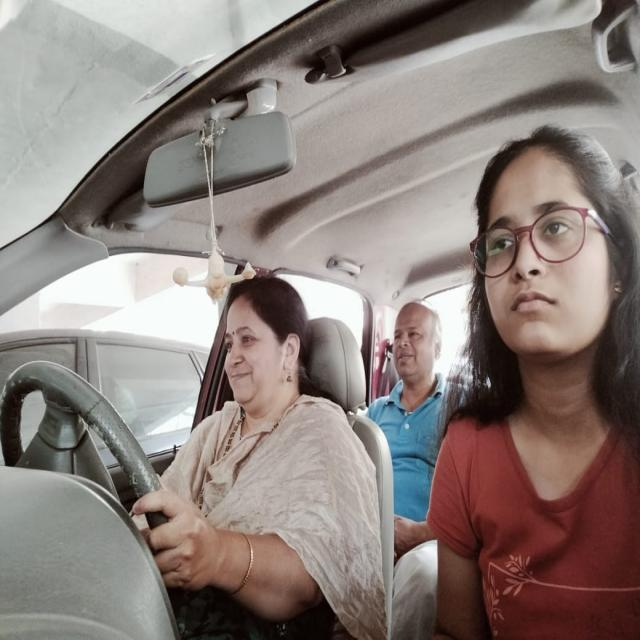person: (478, 160, 621, 355), (220, 289, 306, 409), (393, 298, 440, 377)
